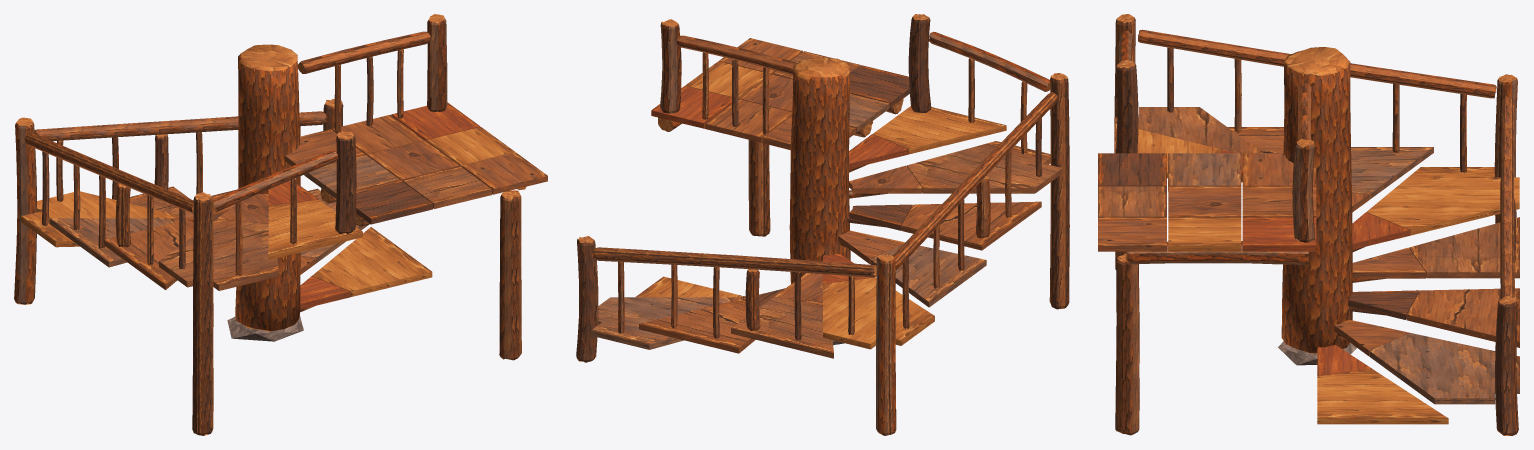
Rendered from stairs_spiral__plank_root.glb.
The picture shows the model from 3 angles, left to right: view 1: azimuth 30°, elevation 25°; view 2: azimuth 150°, elevation 25°; view 3: azimuth 270°, elevation 25°; orthographic projection. The views are drawn at different scales.
Parts seen in each view (by area): view 1: model; view 2: model; view 3: model.
Part boxes in pixels (bbox=[...]): model: bbox=[14, 14, 547, 435]; model: bbox=[576, 14, 1069, 435]; model: bbox=[1098, 14, 1519, 435].
Bounding box in the file's own units: 3.82 × 2.96 × 3.82.
26 materials, 26 textured.
